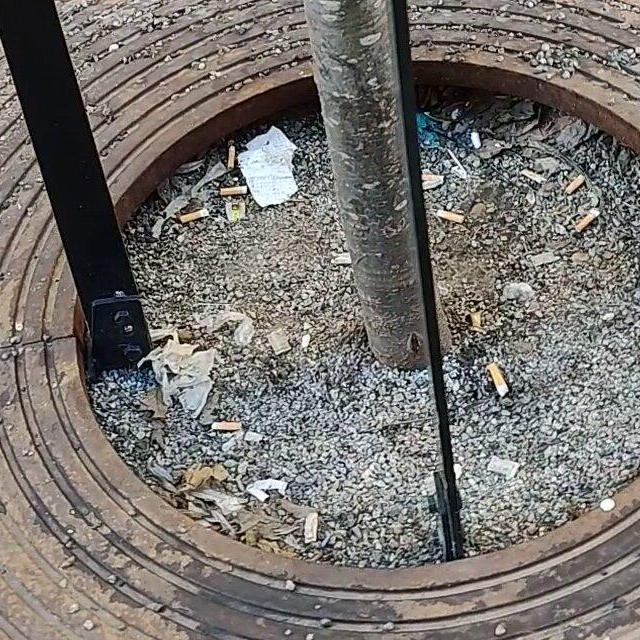Cigarette Butt: (484, 360, 508, 393), (573, 209, 597, 234), (180, 208, 209, 228), (209, 420, 248, 431), (432, 214, 472, 224), (222, 186, 249, 197), (567, 179, 581, 198), (228, 145, 235, 170), (472, 311, 485, 323)
